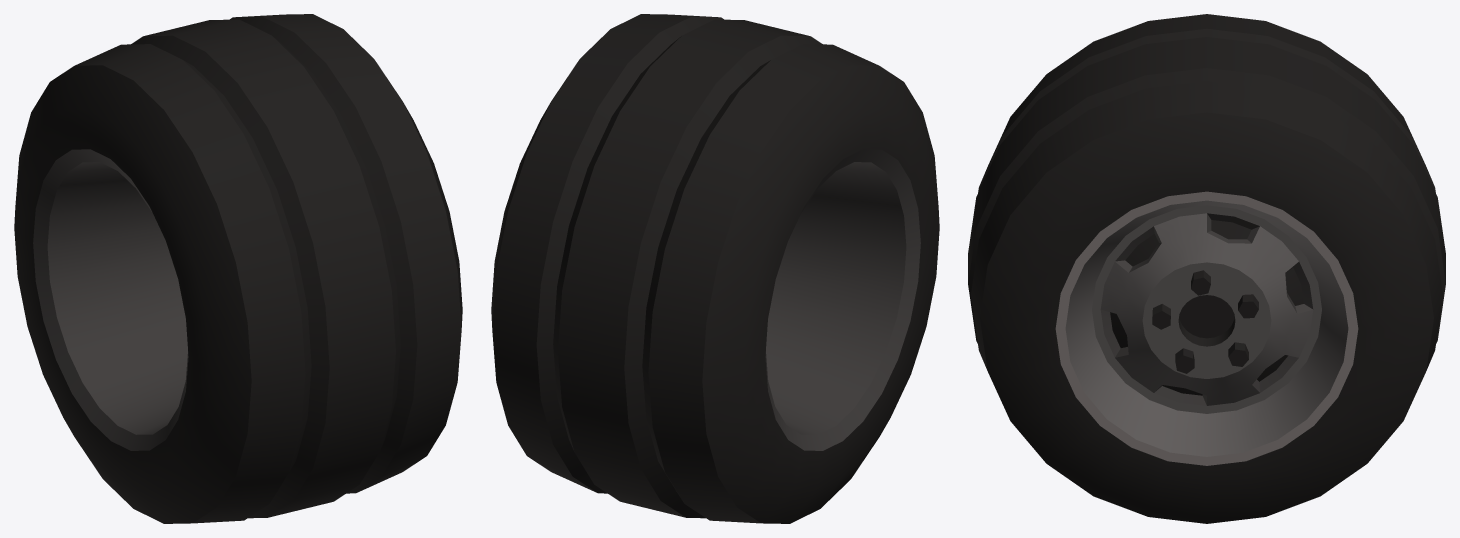
The model's file is wheel.glb.
3 renders of one model, left to right at view 1: azimuth 30°, elevation 25°; view 2: azimuth 150°, elevation 25°; view 3: azimuth 270°, elevation 25°, orthographic. The views are drawn at different scales.
Parts seen in each view (by area): view 1: Wheel_FL; view 2: Wheel_FL; view 3: Wheel_FL.
Part boxes in pixels (left/top/right/bottom): Wheel_FL: left=14, top=14, right=462, bottom=523; Wheel_FL: left=491, top=14, right=939, bottom=523; Wheel_FL: left=968, top=14, right=1445, bottom=523.
Bounding box in the file's own units: 0.1998 × 0.3373 × 0.3373.
Materials: 2 (2 with a texture image).
